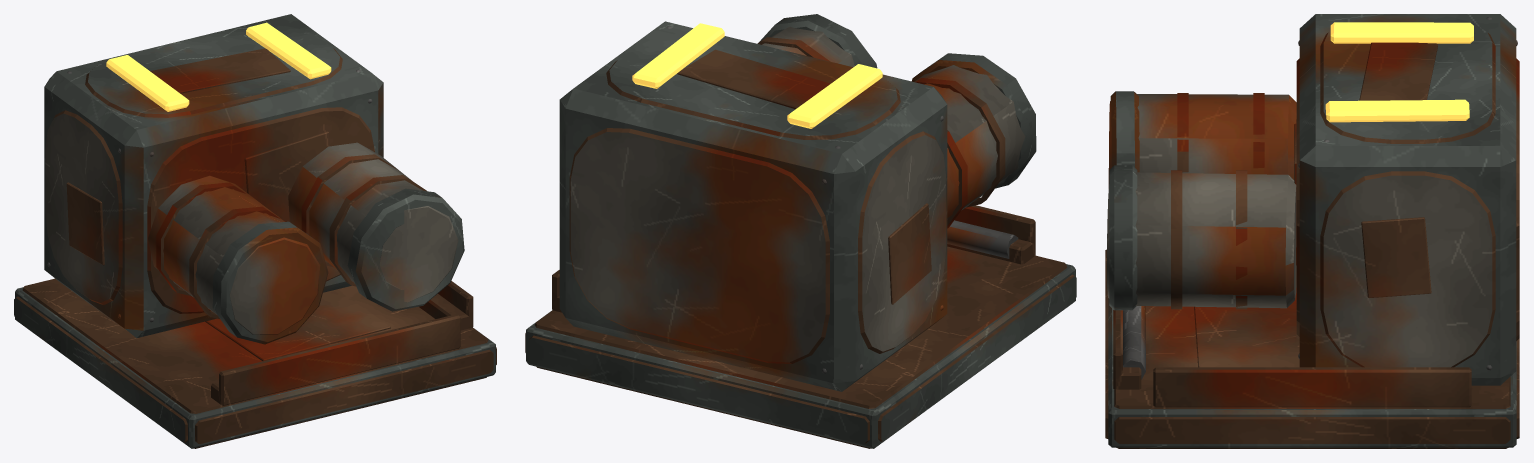
The model's file is R4X_DoubleShotPassive.glb.
3 renders of one model, left to right at view 1: azimuth 30°, elevation 25°; view 2: azimuth 150°, elevation 25°; view 3: azimuth 270°, elevation 25°, orthographic. The views are drawn at different scales.
Visible parts, largest first — view 1: R4X_DoubleShotPassive_Body; view 2: R4X_DoubleShotPassive_Body; view 3: R4X_DoubleShotPassive_Body.
Boxes of the visible parts, bbox=[...] form: R4X_DoubleShotPassive_Body: bbox=[14, 14, 496, 448]; R4X_DoubleShotPassive_Body: bbox=[525, 14, 1076, 448]; R4X_DoubleShotPassive_Body: bbox=[1105, 14, 1519, 448].
Size of the model in its own units: 0.52 by 0.415 by 0.52.
Materials: 5 (4 with a texture image).
